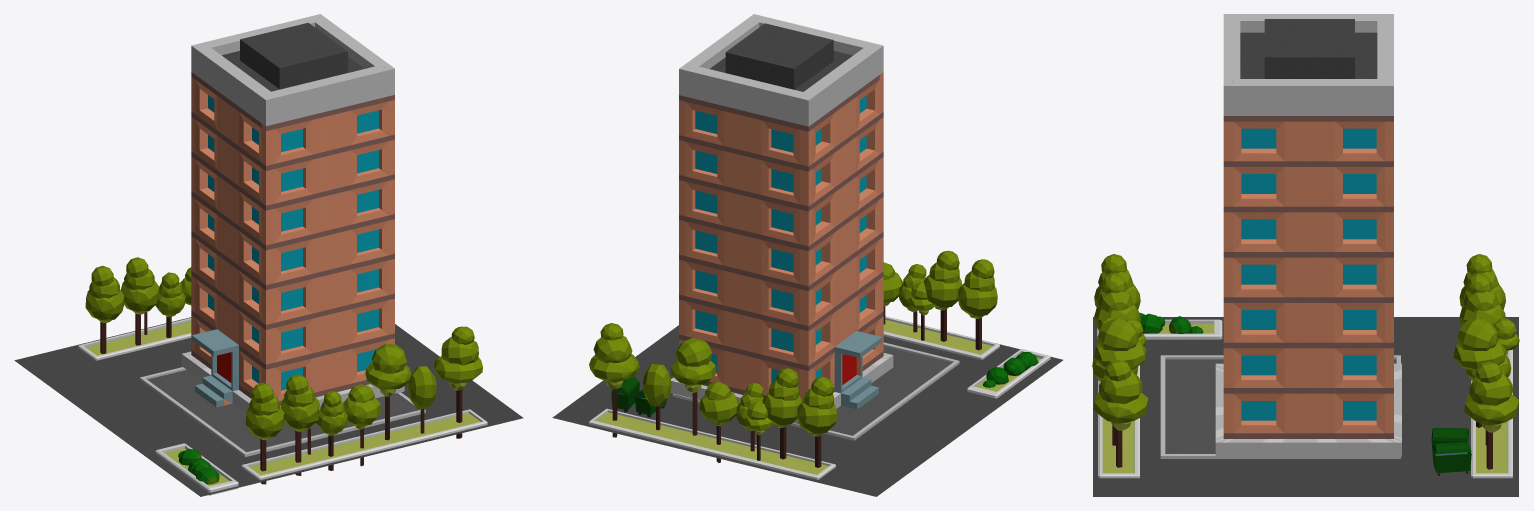
File: citybuilding3.gltf
The picture shows the model from 3 angles, left to right: view 1: azimuth 30°, elevation 25°; view 2: azimuth 150°, elevation 25°; view 3: azimuth 270°, elevation 25°; orthographic projection. The views are drawn at different scales.
Parts seen in each view (by area): view 1: House_13.001, Plane.001, Floor_4_12.001, Bed_2_27.001, Tree_3_31.001, Bed_2_26.001, Tree_3_4_17.001, Tree_3_7_16_3.001, Tree_3_7_15_4.001, Tree_3_1_26_4.001, Tree_3_1_25.001, Tree_3_6_15.001 (+5 smaller); view 2: House_13.001, Plane.001, Floor_4_12.001, Bed_2_26.001, Tree_3_30_6.001, Bed_2_27.001, Tree_3_4_16.001, Tree_3_7_16_3.001, Tree_3_7_15_4.001, Tree_3_1_26_4.001, Tree_3_1_25.001, Tree_3_6_14.001 (+9 smaller); view 3: House_13.001, Plane.001, Floor_4_12.001, Tree_3_31.001, Tree_3_30_6.001, Bed_2_26.001, Bed_2_27.001, Tree_3_4_16.001, Tree_3_4_17.001, Tree_3_1_25.001, Tree_3_1_26_4.001, Trash_8.001 (+6 smaller).
Boxes of the visible parts, <box> form: House_13.001: <box>181,14,404,413</box>; Plane.001: <box>14,317,523,496</box>; Floor_4_12.001: <box>139,367,425,456</box>; Bed_2_27.001: <box>241,409,487,480</box>; Tree_3_31.001: <box>434,326,482,438</box>; Bed_2_26.001: <box>78,318,191,360</box>; Tree_3_4_17.001: <box>365,344,411,440</box>; Tree_3_7_16_3.001: <box>245,383,284,484</box>; Tree_3_7_15_4.001: <box>85,265,124,353</box>; Tree_3_1_26_4.001: <box>281,374,319,475</box>; Tree_3_1_25.001: <box>121,257,159,345</box>; Tree_3_6_15.001: <box>343,384,380,466</box>; House_13.001: <box>670,14,893,424</box>; Plane.001: <box>552,316,1062,496</box>; Floor_4_12.001: <box>672,342,959,440</box>; Bed_2_26.001: <box>589,408,835,479</box>; Tree_3_30_6.001: <box>589,323,639,437</box>; Bed_2_27.001: <box>883,316,999,359</box>; Tree_3_4_16.001: <box>670,338,716,435</box>; Tree_3_7_16_3.001: <box>958,259,997,350</box>; Tree_3_7_15_4.001: <box>797,377,836,467</box>; Tree_3_1_26_4.001: <box>923,250,962,341</box>; Tree_3_1_25.001: <box>762,368,801,459</box>; Tree_3_6_14.001: <box>699,381,739,462</box>; House_13.001: <box>1215,14,1401,456</box>; Plane.001: <box>1093,317,1518,496</box>; Floor_4_12.001: <box>1160,355,1400,458</box>; Tree_3_31.001: <box>1093,359,1148,467</box>; Tree_3_30_6.001: <box>1464,361,1518,469</box>; Bed_2_26.001: <box>1471,349,1512,478</box>; Bed_2_27.001: <box>1098,365,1139,478</box>; Tree_3_4_16.001: <box>1453,318,1505,427</box>; Tree_3_4_17.001: <box>1094,318,1146,369</box>; Tree_3_1_25.001: <box>1459,273,1505,325</box>; Tree_3_1_26_4.001: <box>1094,273,1140,331</box>; Trash_8.001: <box>1432,441,1471,475</box>.
Size of the model in its own units: 20 by 20.9 by 20.07.
Materials: 2 (1 with a texture image).
